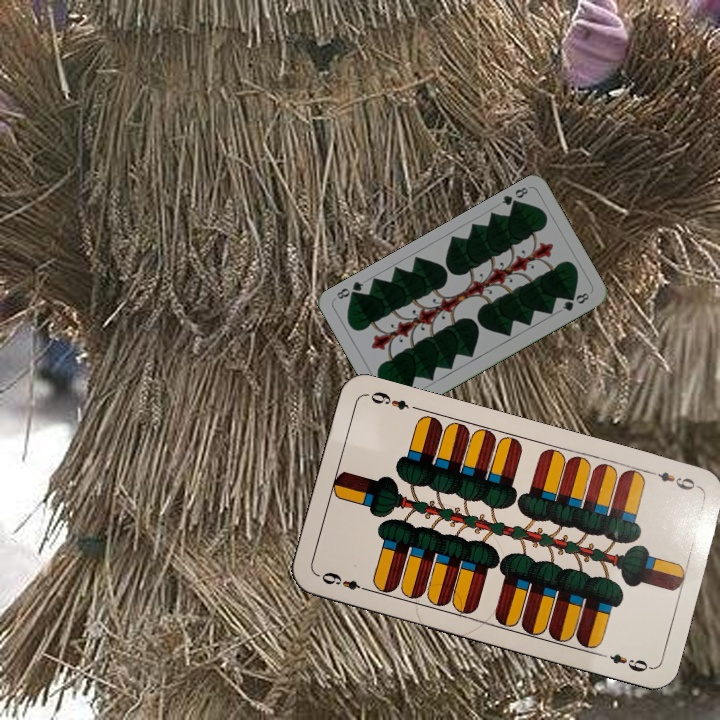E9: (315, 568, 372, 595), (653, 468, 702, 493)
G8: (497, 183, 531, 211)
